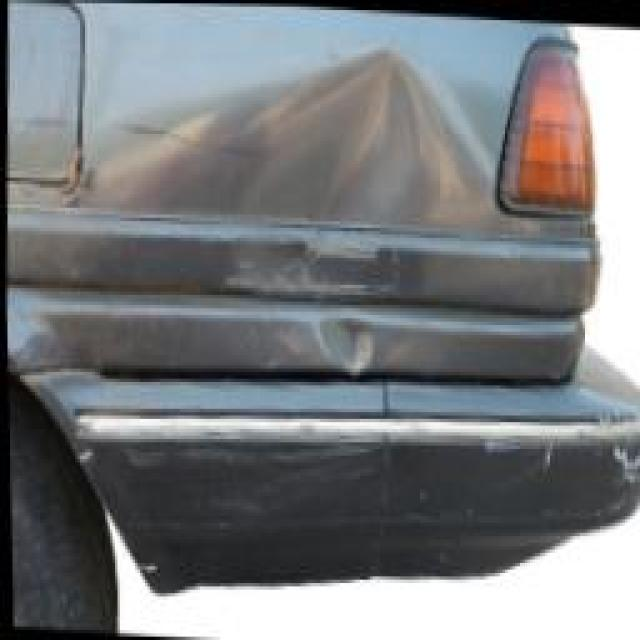Fender: (150, 7, 521, 371)
